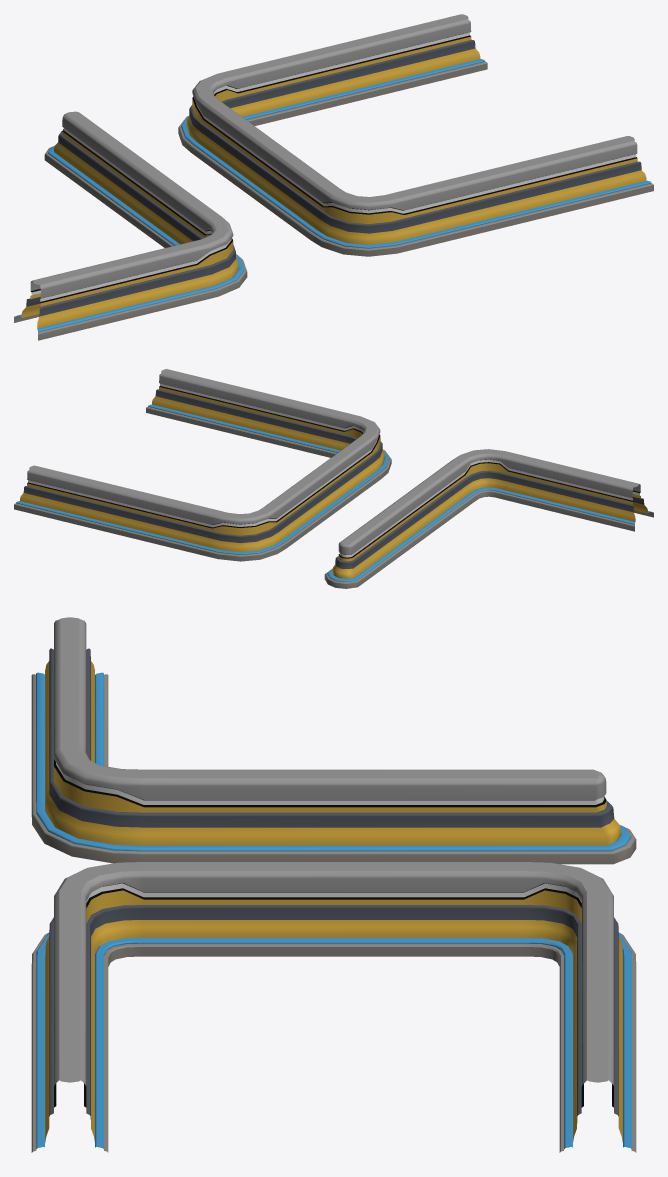
File: SmallWalls.fbx
3 views of the same model, one above another, from view 1: azimuth 30°, elevation 25°; view 2: azimuth 150°, elevation 25°; view 3: azimuth 270°, elevation 25° (orthographic). The views are drawn at different scales.
Visible parts, largest first — view 1: Small_wall2, Small_wall1; view 2: Small_wall2, Small_wall1; view 3: Small_wall2, Small_wall1.
Boxes of the visible parts, x1,y1,x2,y2 form: Small_wall2: (178, 14, 653, 256); Small_wall1: (14, 111, 247, 340); Small_wall2: (14, 369, 391, 561); Small_wall1: (324, 449, 653, 588); Small_wall2: (31, 862, 636, 1152); Small_wall1: (31, 617, 636, 864).
Bounding box in the file's own units: 5070 × 371 × 2714.
